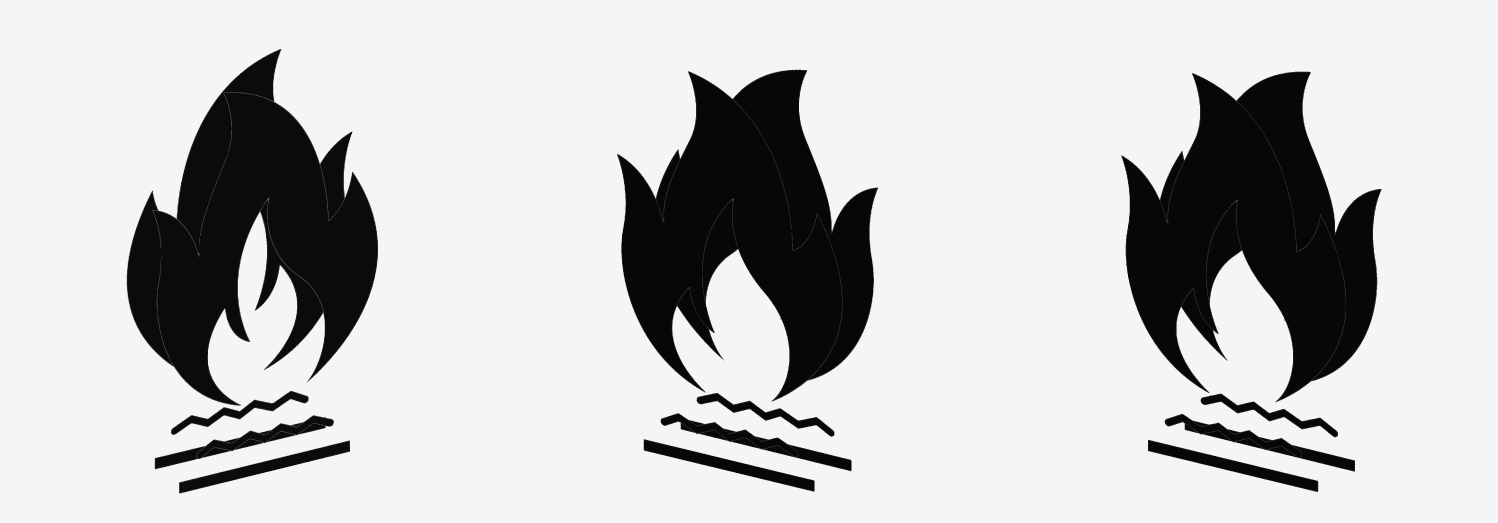
Rendered from Miniscene3_Gas Flame Icon.fbx.
3 views of the same model, side by side, from view 1: azimuth 30°, elevation 25°; view 2: azimuth 150°, elevation 25°; view 3: azimuth 330°, elevation 25° (orthographic).
Parts seen in each view (by area): view 1: Model; view 2: Model; view 3: Model.
Boxes of the visible parts, box(x1,y1,x2,y2) form: Model: box(126, 49, 377, 493); Model: box(617, 69, 878, 491); Model: box(1121, 71, 1381, 491).
Bounding box in the file's own units: 97.22 × 97.22 × 11.69.
